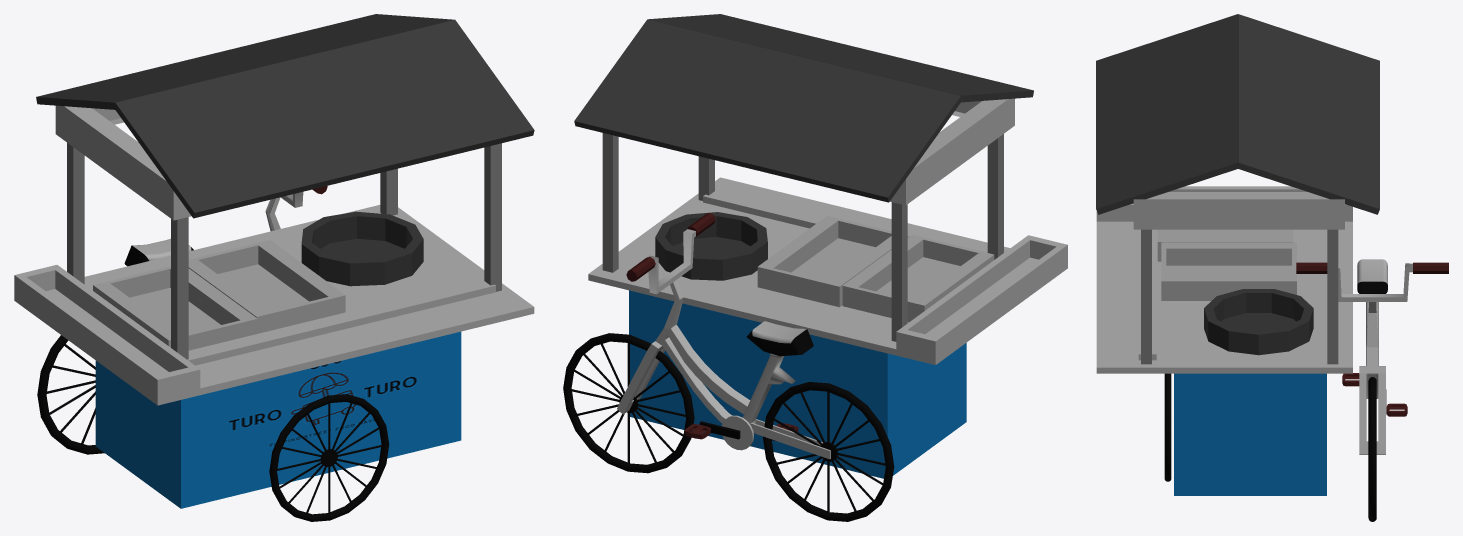
File: FOODCART.fbx
3 renders of one model, left to right at view 1: azimuth 30°, elevation 25°; view 2: azimuth 150°, elevation 25°; view 3: azimuth 270°, elevation 25°, orthographic. The views are drawn at different scales.
Visible parts, largest first — view 1: pasted__pCube3Shape1; view 2: pasted__pCube3Shape1; view 3: pasted__pCube3Shape1.
Part boxes in pixels (x1,y1,x2,y2): pasted__pCube3Shape1: (14,14,534,521); pasted__pCube3Shape1: (563,14,1067,521); pasted__pCube3Shape1: (1096,14,1448,521).
Bounding box in the file's own units: 4.99 × 5.24 × 4.34.
10 materials, 1 textured.
